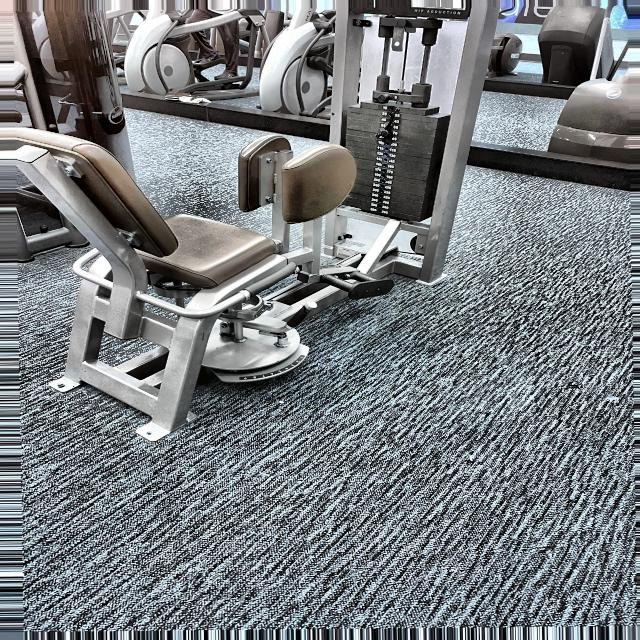hip_adduction_machine: (25, 56, 325, 434), (214, 136, 388, 307), (413, 7, 465, 15)
